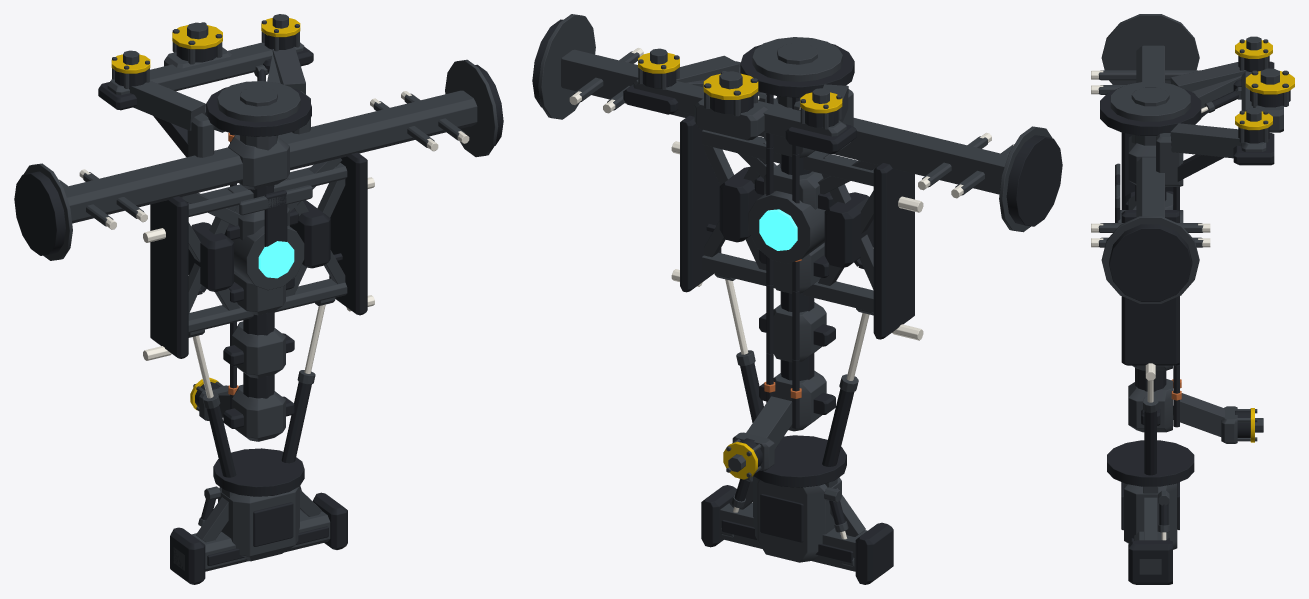
Rendered from Skel_TorsoHumanoid_Light.fbx.
The picture shows the model from 3 angles, left to right: view 1: azimuth 30°, elevation 25°; view 2: azimuth 150°, elevation 25°; view 3: azimuth 270°, elevation 25°; orthographic projection. The views are drawn at different scales.
Visible parts, largest first — view 1: Skel_TorsoHumanoid_Light; view 2: Skel_TorsoHumanoid_Light; view 3: Skel_TorsoHumanoid_Light.
Boxes of the visible parts, bbox=[...] form: Skel_TorsoHumanoid_Light: bbox=[14, 14, 503, 584]; Skel_TorsoHumanoid_Light: bbox=[532, 14, 1062, 584]; Skel_TorsoHumanoid_Light: bbox=[1091, 14, 1294, 584].
Bounding box in the file's own units: 1.85 × 1.93 × 0.7495.
